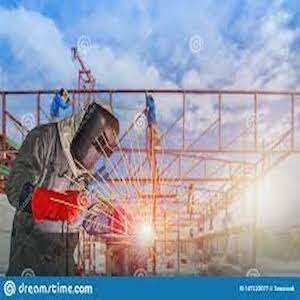heat: (119, 204, 164, 252)
safety: (62, 102, 121, 176)
